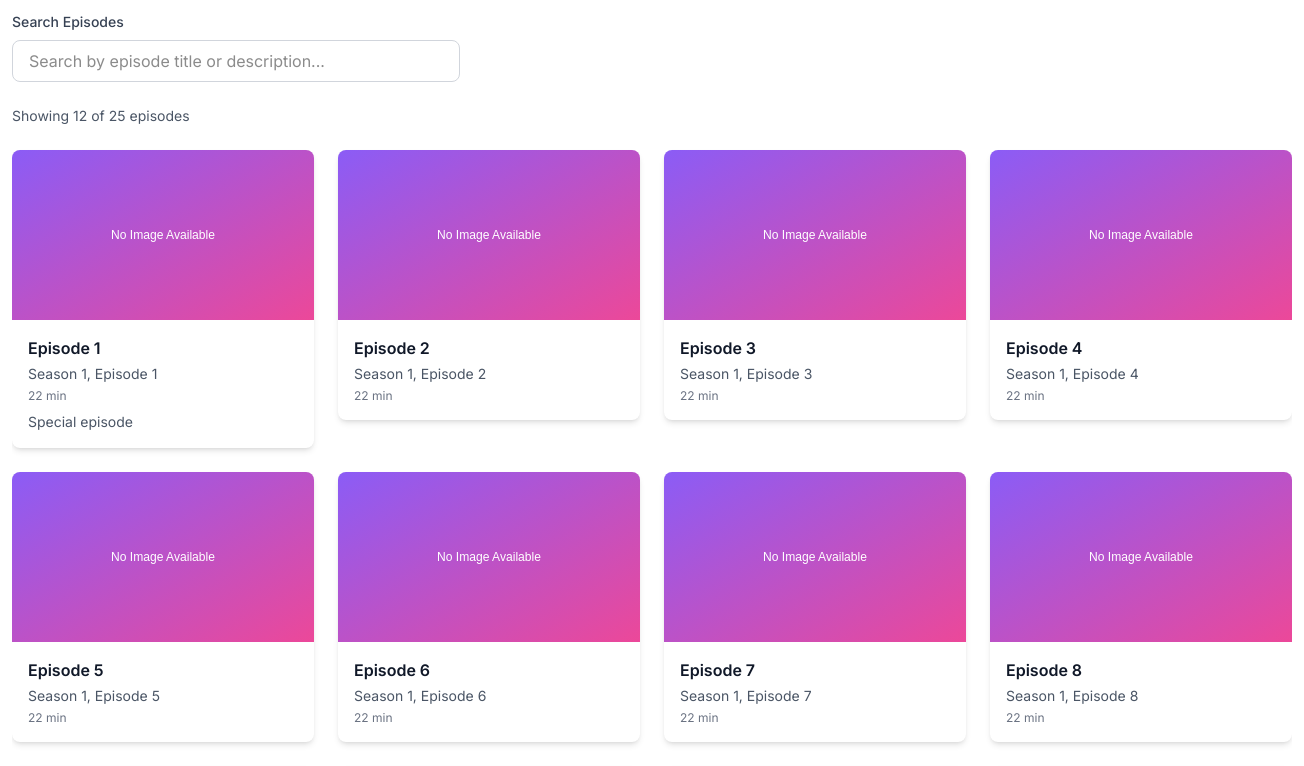
PaginatedEpisodeList (Integration) › filters episodes by search
The width and height of the screenshot is (1304, 766).
Step 1. Type "Special" into the search field labelled "Search Episodes" → (236,61), box [12, 40, 460, 82]
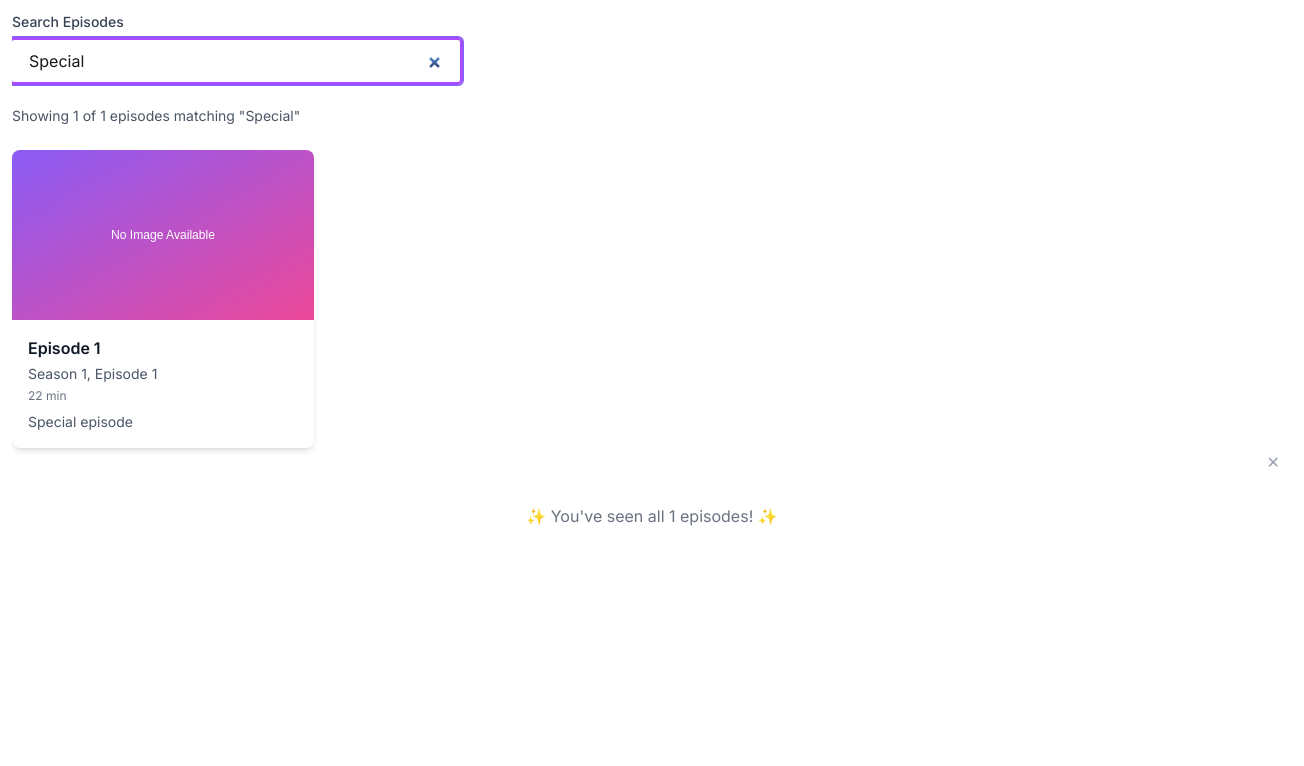
Expected: the text "Showing 1 of 1 episodes matching \"Special\"" is shown, [12, 107, 300, 124]
